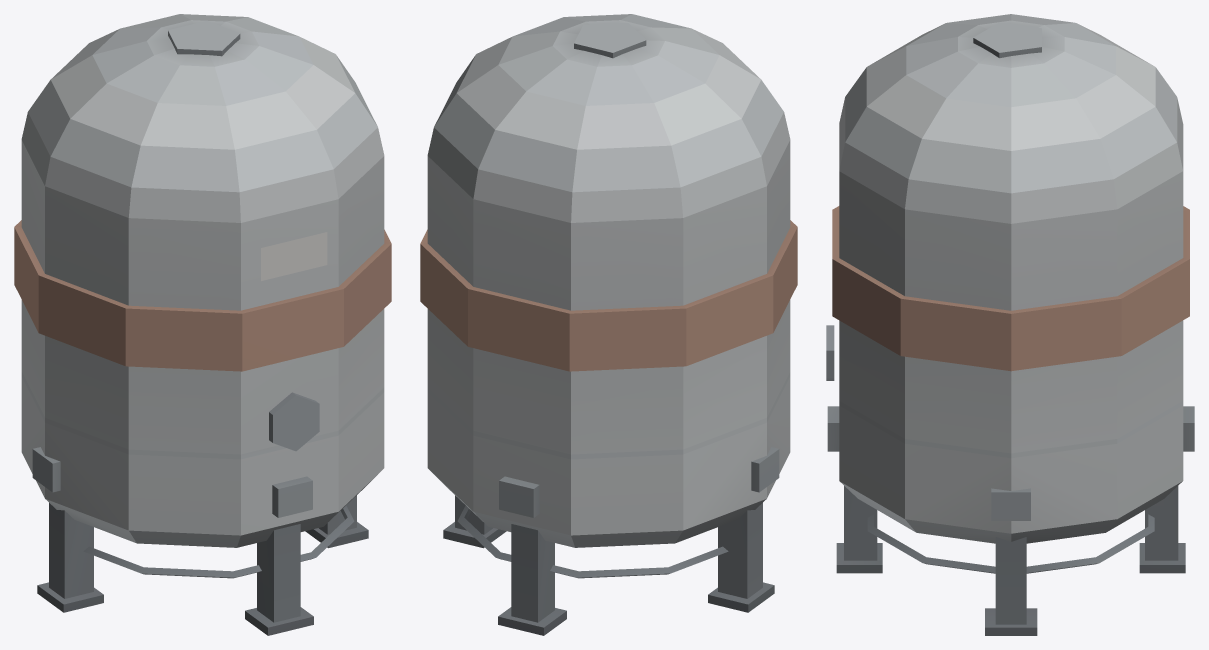
The model's file is tank.lod1.glb.
3 renders of one model, left to right at view 1: azimuth 30°, elevation 25°; view 2: azimuth 150°, elevation 25°; view 3: azimuth 270°, elevation 25°, orthographic.
Bounding box in the file's own units: 4.16 × 6.4 × 4.07.
